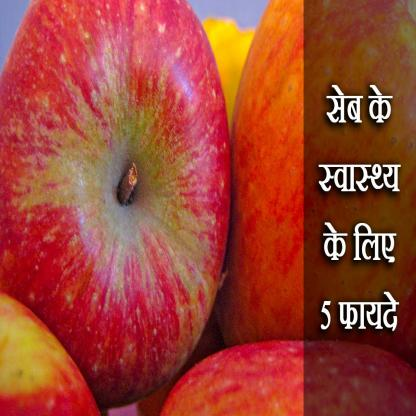apple: (5, 0, 233, 408)
